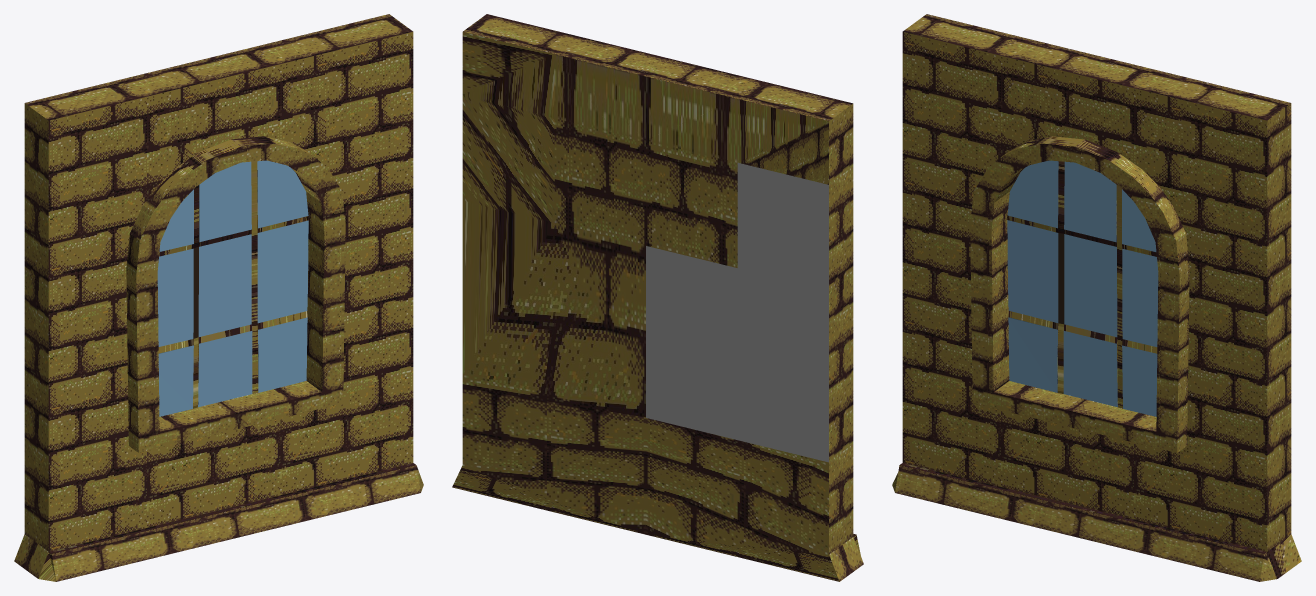
Rendered from vindu1.fbx.
3 views of the same model, side by side, from view 1: azimuth 30°, elevation 25°; view 2: azimuth 150°, elevation 25°; view 3: azimuth 330°, elevation 25° (orthographic).
Visible parts, largest first — view 1: pasted__pCube9; view 2: pasted__pCube9; view 3: pasted__pCube9.
Part boxes in pixels (x1,y1,x2,y2): pasted__pCube9: [14, 14, 423, 581]; pasted__pCube9: [452, 14, 863, 581]; pasted__pCube9: [892, 14, 1301, 581].
Bounding box in the file's own units: 8.1 × 9.15 × 1.24.
